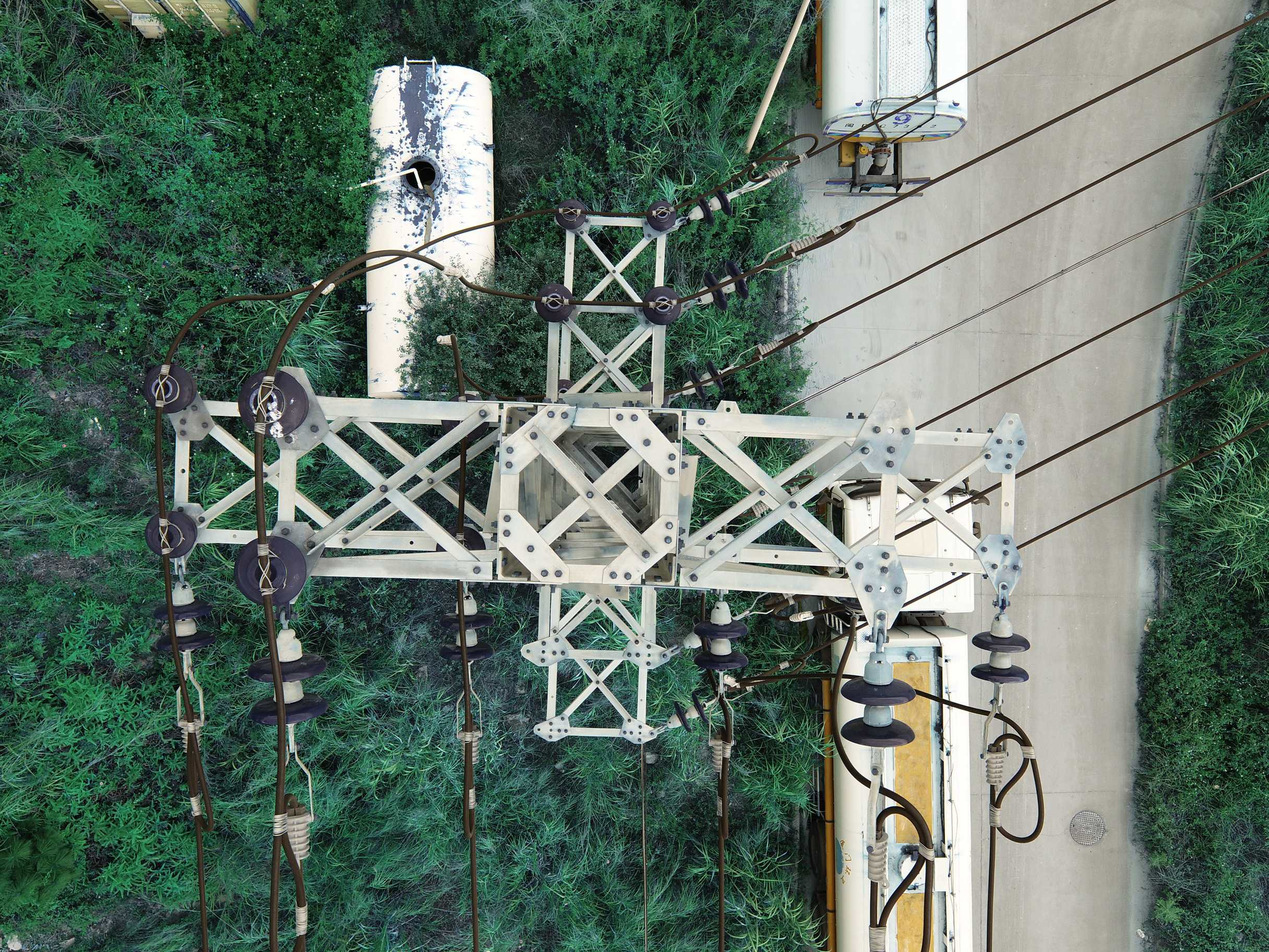severe_soiling_no_discharge_whole: (236, 366, 312, 437)
